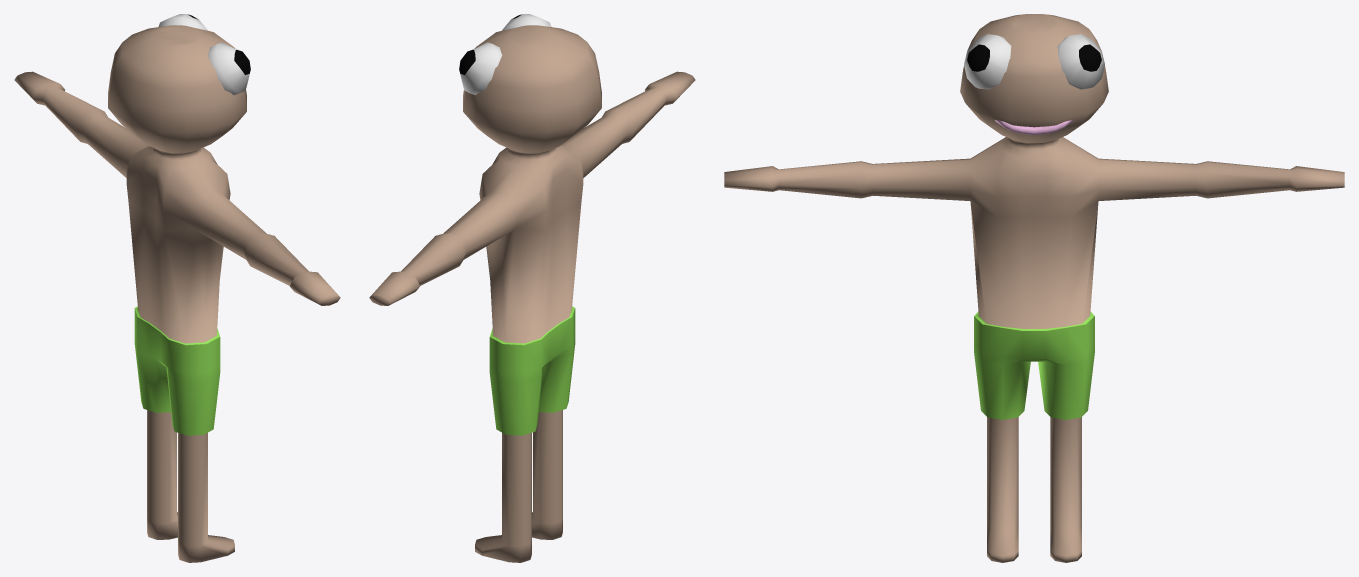
Rendered from ShortsMan.fbx.
3 renders of one model, left to right at view 1: azimuth 30°, elevation 25°; view 2: azimuth 150°, elevation 25°; view 3: azimuth 270°, elevation 25°, orthographic.
Parts seen in each view (by area): view 1: Circle; view 2: Circle; view 3: Circle.
Part boxes in pixels (bbox=[...]): Circle: bbox=[14, 14, 340, 562]; Circle: bbox=[369, 14, 695, 562]; Circle: bbox=[724, 14, 1344, 562].
Bounding box in the file's own units: 0.8602 × 3.61 × 3.91.
